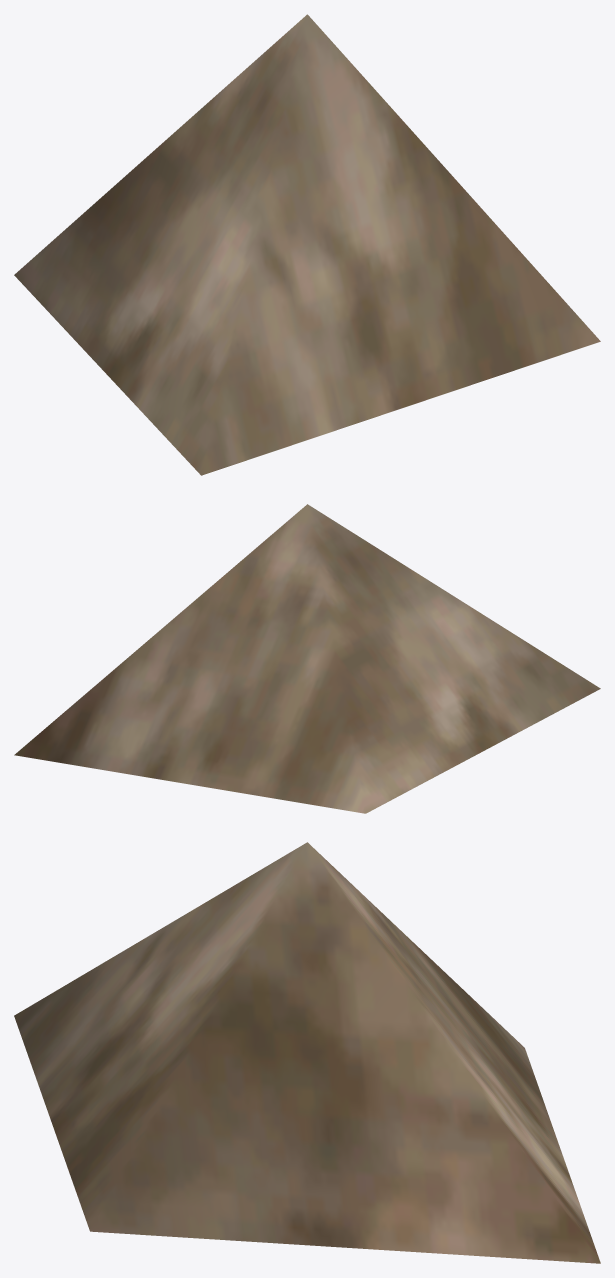
The model's file is OVERHILL_A_01_PLANE03.fbx.
3 renders of one model, top to bottom at view 1: azimuth 30°, elevation 25°; view 2: azimuth 150°, elevation 25°; view 3: azimuth 270°, elevation 25°, orthographic. The views are drawn at different scales.
Parts seen in each view (by area): view 1: OVERHILL_A_01_PLANE03; view 2: OVERHILL_A_01_PLANE03; view 3: OVERHILL_A_01_PLANE03.
Part boxes in pixels (x1,y1,x2,y2): OVERHILL_A_01_PLANE03: [14, 14, 600, 475]; OVERHILL_A_01_PLANE03: [14, 504, 600, 813]; OVERHILL_A_01_PLANE03: [14, 842, 600, 1263].
Size of the model in its own units: 1126 by 630 by 1126.
Materials: 1 (1 with a texture image).
